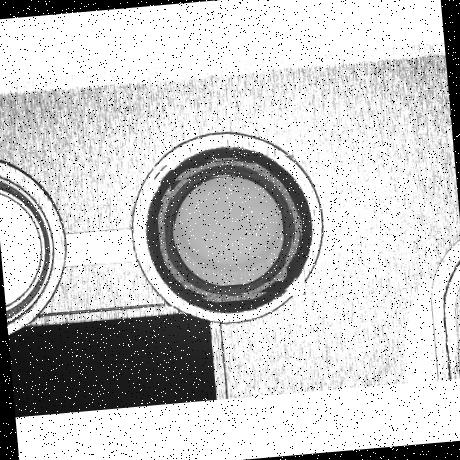Hole: (140, 142, 318, 320)
Hole2: (153, 153, 307, 307)
Hole3: (160, 160, 298, 300)
Hole4: (170, 170, 288, 290)
